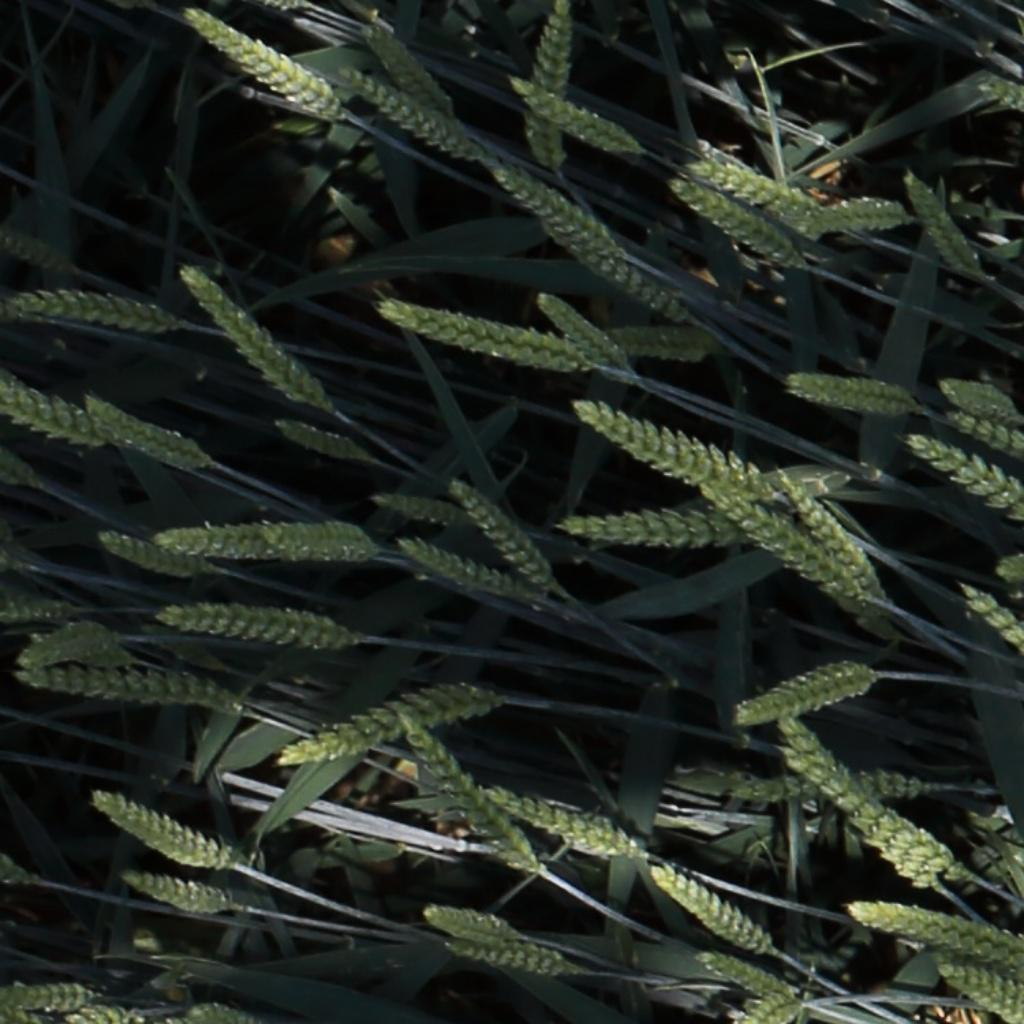0-0: (778, 711, 950, 888), (781, 747, 976, 879), (173, 256, 330, 416), (395, 716, 544, 876), (574, 401, 773, 502), (369, 294, 597, 381), (275, 683, 507, 764), (700, 481, 854, 602), (178, 8, 339, 118), (443, 465, 561, 599), (550, 496, 783, 560), (841, 896, 1024, 972), (479, 780, 642, 860), (779, 475, 882, 600), (338, 66, 473, 157), (87, 789, 231, 874), (156, 599, 379, 652), (648, 864, 774, 957), (729, 655, 877, 732), (490, 163, 619, 251), (670, 176, 797, 263), (0, 285, 187, 344), (17, 671, 246, 719), (153, 523, 394, 567), (565, 236, 688, 322), (906, 436, 1024, 521), (359, 21, 454, 117), (694, 770, 934, 807), (80, 394, 200, 466), (899, 165, 978, 274), (512, 79, 632, 148), (442, 937, 601, 984), (400, 542, 527, 600), (591, 319, 726, 372), (0, 383, 110, 442), (692, 158, 812, 212), (535, 289, 621, 364), (935, 419, 1024, 488), (421, 898, 538, 949), (799, 194, 928, 236), (14, 624, 122, 670), (937, 961, 1024, 1017), (95, 532, 203, 576), (785, 374, 910, 412), (947, 412, 1024, 471), (529, 0, 570, 102), (120, 875, 226, 914), (271, 419, 365, 461), (697, 951, 783, 995), (0, 976, 104, 1012), (32, 634, 138, 668), (939, 378, 1017, 420), (371, 494, 466, 527), (1, 228, 69, 271), (0, 594, 88, 624), (962, 991, 1024, 1021), (0, 449, 43, 490), (742, 989, 795, 1022), (983, 79, 1024, 118), (181, 1006, 253, 1024), (69, 1006, 140, 1024), (993, 549, 1024, 590)
